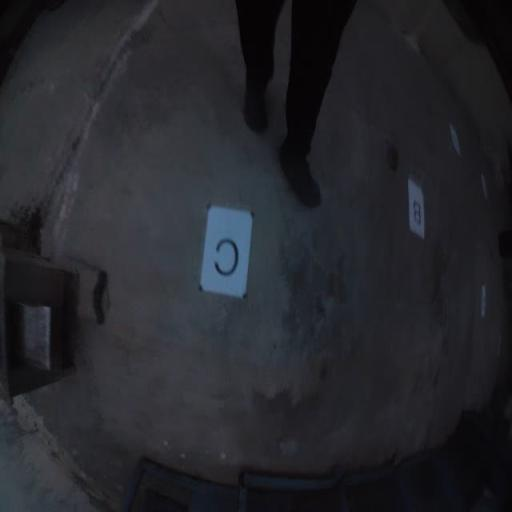B: (413, 197, 422, 226)
C: (215, 238, 239, 277)
